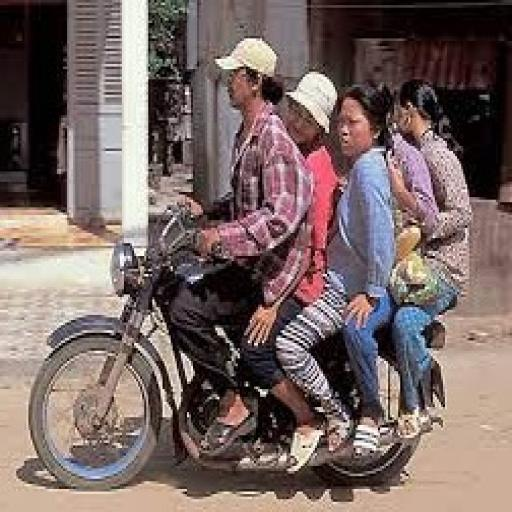overloading: (24, 197, 451, 492)
